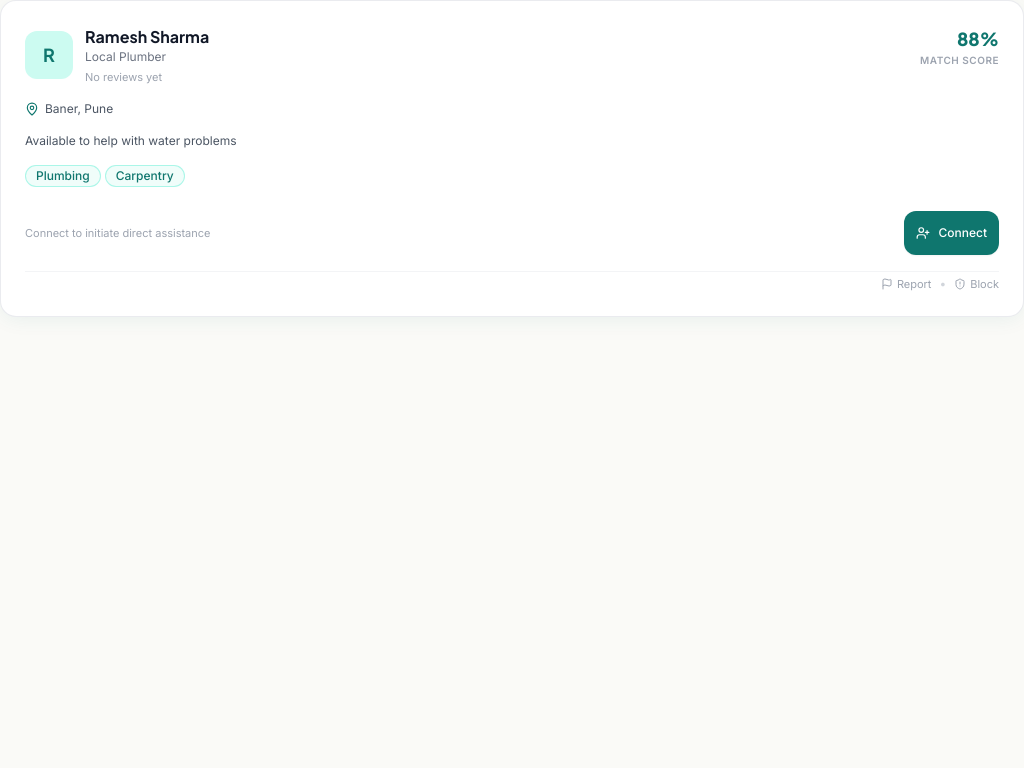
Phase 11: Real Safety, Trust, Blocking, Reporting & Moderation › HelperCard Safety Integration › opens block modal when block button is clicked
Click the button titled "Block user" at (977, 284), box left=954, top=276, right=999, bottom=292
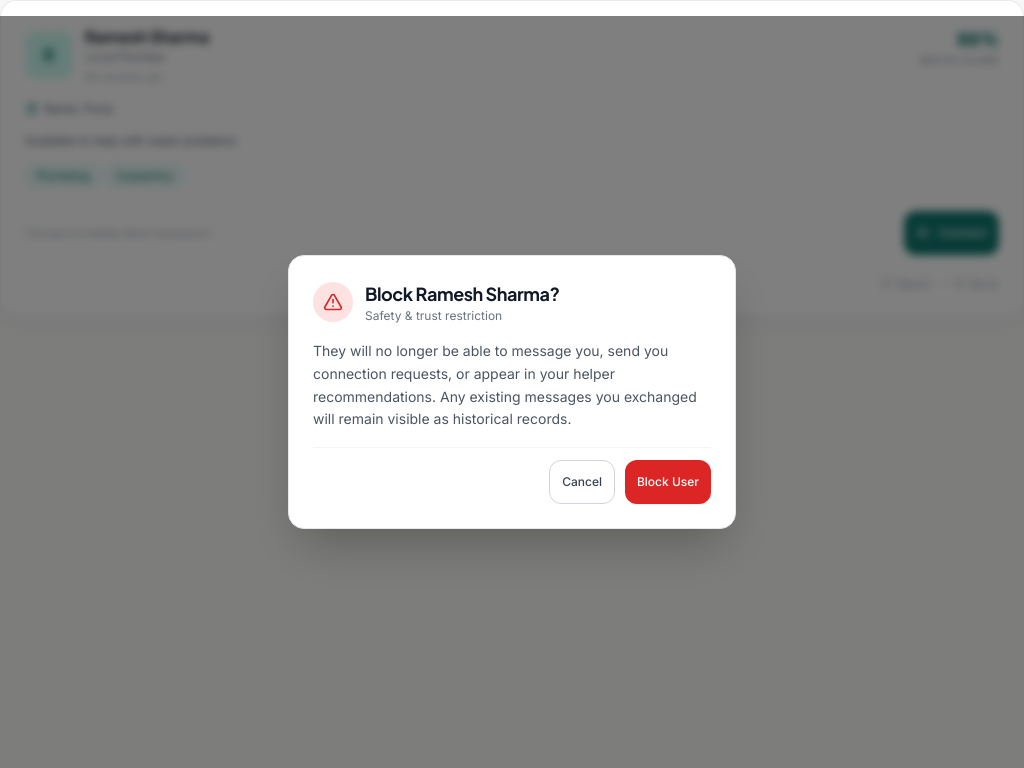
Check: the heading "Block Ramesh Sharma?" is shown, box left=365, top=280, right=559, bottom=308
